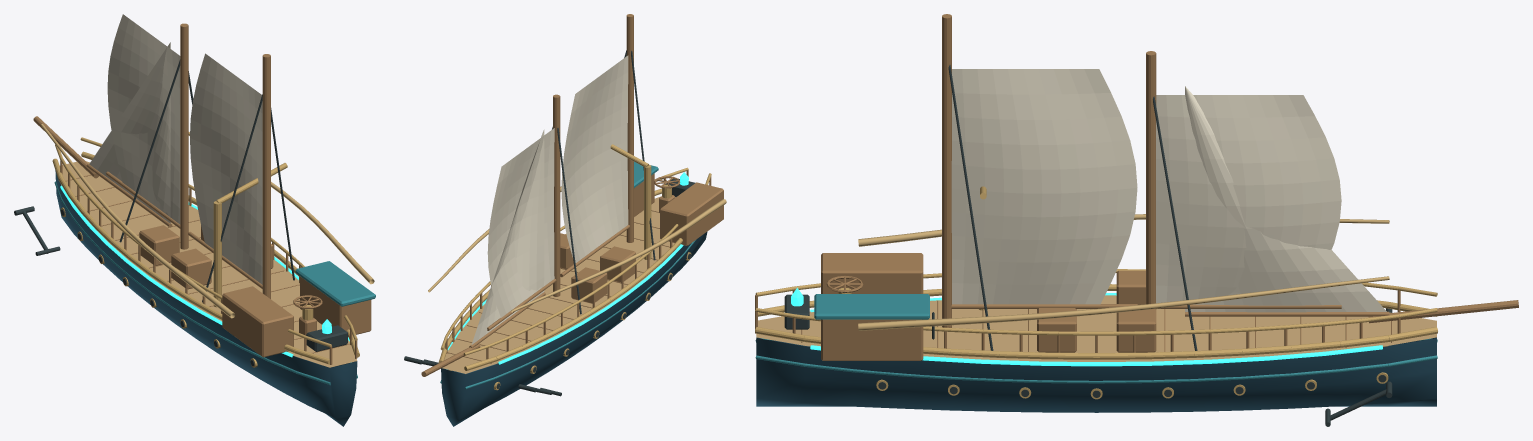
Rendered from premium_salvage_schooner.glb.
3 renders of one model, left to right at view 1: azimuth 30°, elevation 25°; view 2: azimuth 150°, elevation 25°; view 3: azimuth 270°, elevation 25°, orthographic. The views are drawn at different scales.
Visible parts, largest first — view 1: premium_salvage_schooner; view 2: premium_salvage_schooner; view 3: premium_salvage_schooner.
Boxes of the visible parts, x1,y1,x2,y2 form: premium_salvage_schooner: [14, 14, 375, 426]; premium_salvage_schooner: [404, 14, 726, 426]; premium_salvage_schooner: [755, 14, 1518, 426].
Size of the model in its own units: 4.05 by 7.6 by 13.47.
